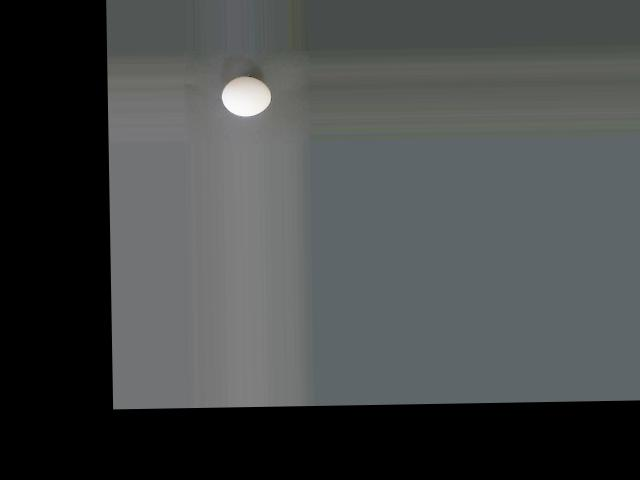egg: (223, 76, 272, 116)
